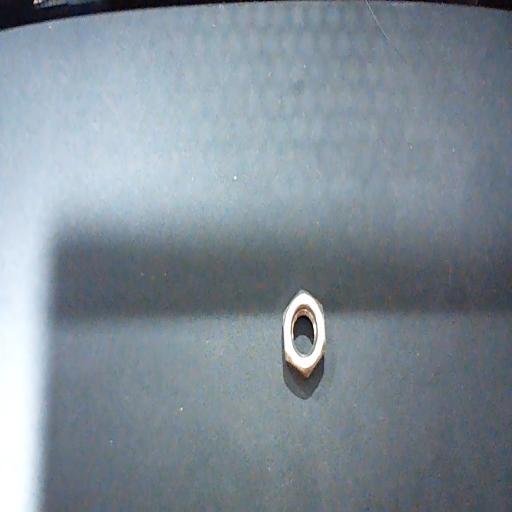nut: (282, 288, 326, 379)
